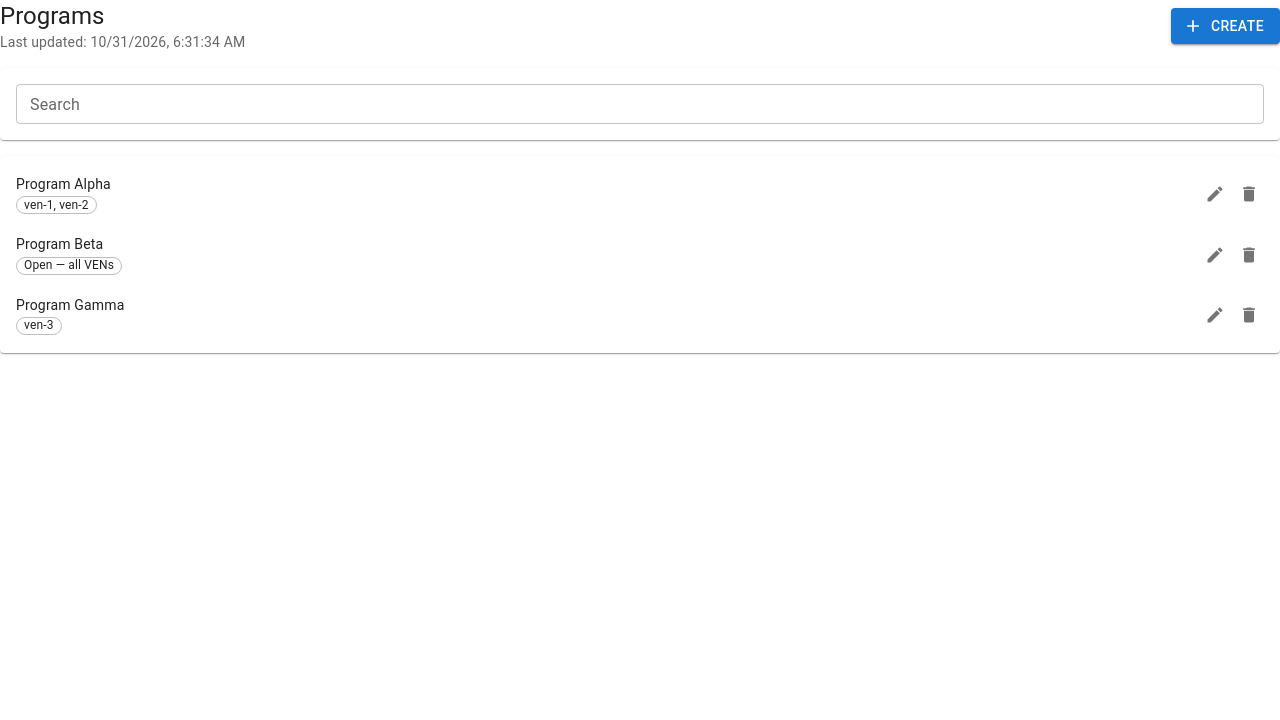
ProgramsPage › opens create program dialog with VEN checkboxes
Click the button with test id "create-program-btn" at (1225, 26), box [1171, 8, 1279, 44]
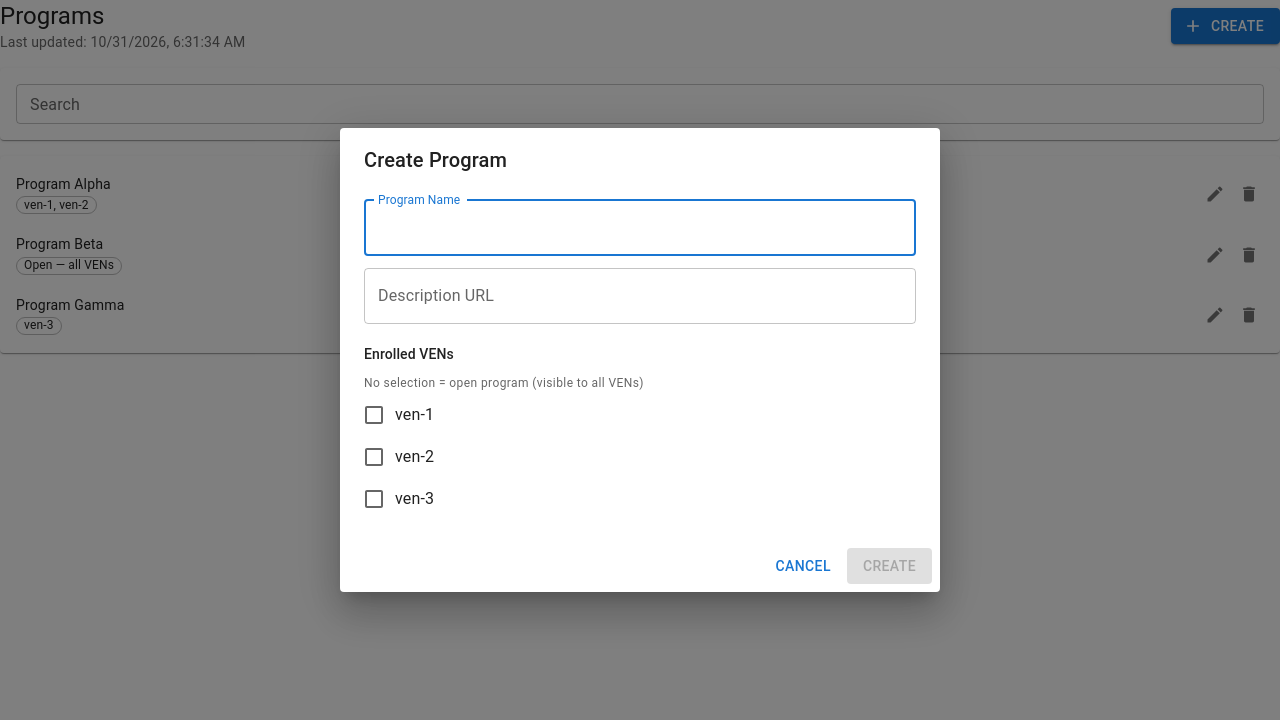
expect the element with test id "program-form-dialog" is shown: met
expect the element with test id "program-ven-checkboxes" is shown: met, box [362, 403, 434, 511]
expect the element with test id "ven-checkbox-ven-1" is shown: met, box [362, 403, 386, 427]
